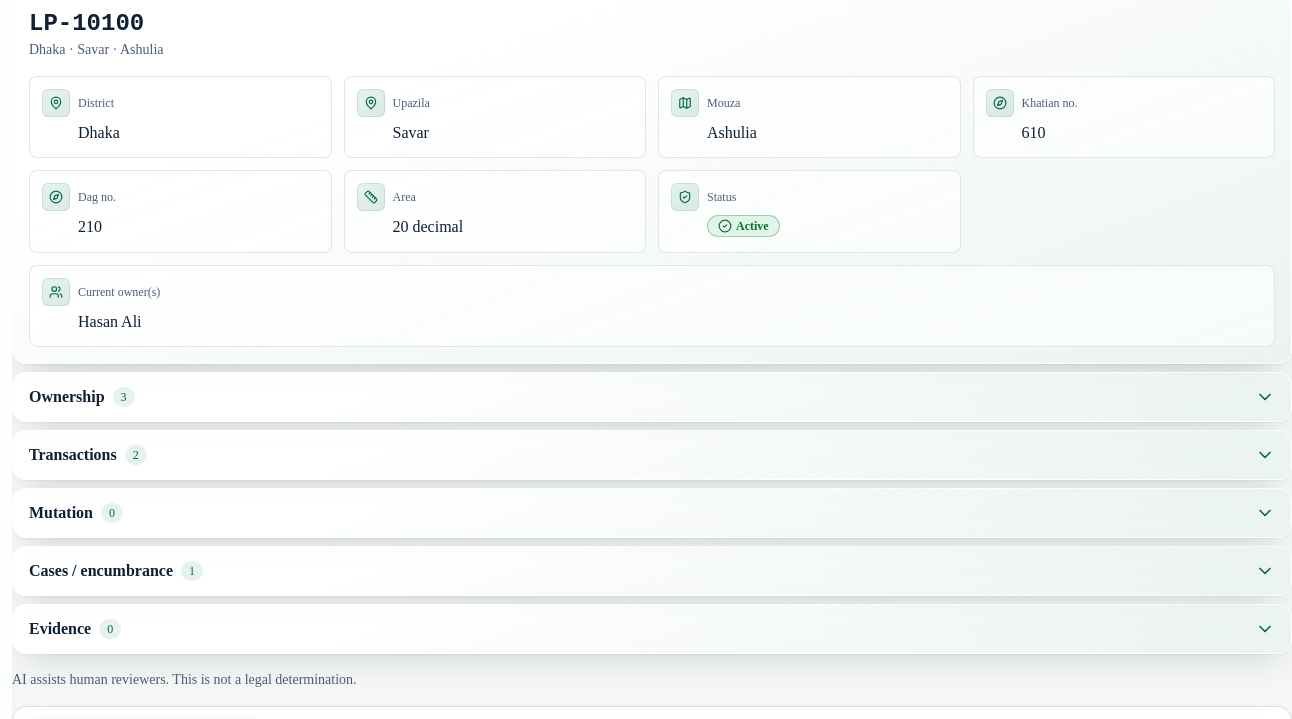
Test: ResultView › keeps the detail sections closed until opened (only the land facts start open)
This screenshot has width=1292, height=719.
(page scrolled)
Check: the list "Ownership history" is not shown
Click the heading with test id "section-toggle" at (67, 396), box top-left (29, 387), bottom-right (1275, 407)
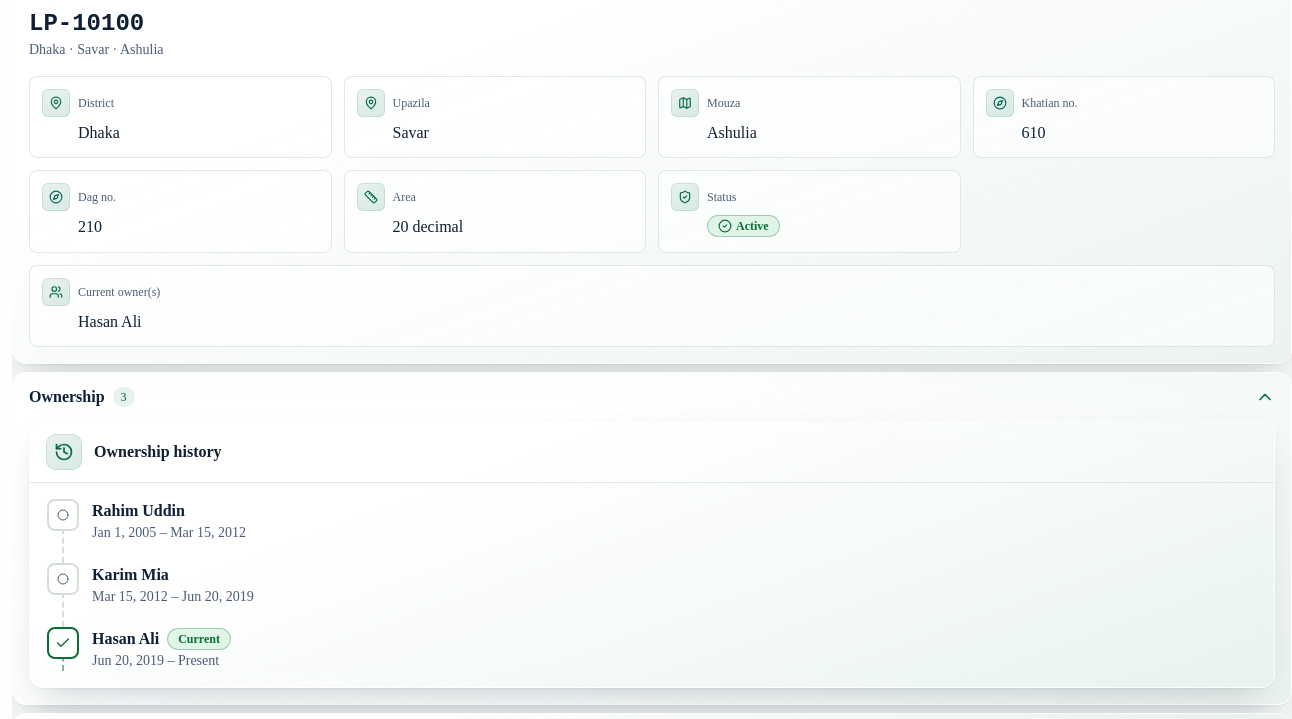
Check: the list named "Ownership history" is shown, box top-left (46, 499), bottom-right (1258, 671)
